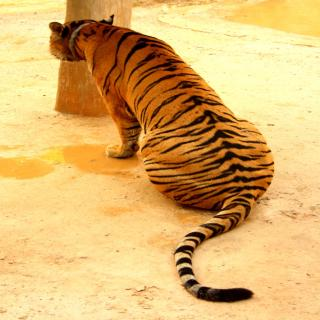Tiger: (42, 12, 275, 304)
